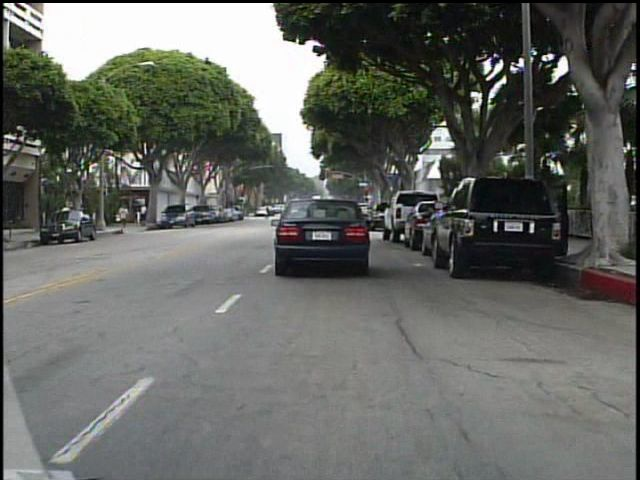person: (119, 201, 134, 234), (139, 201, 152, 229), (265, 201, 275, 222)
